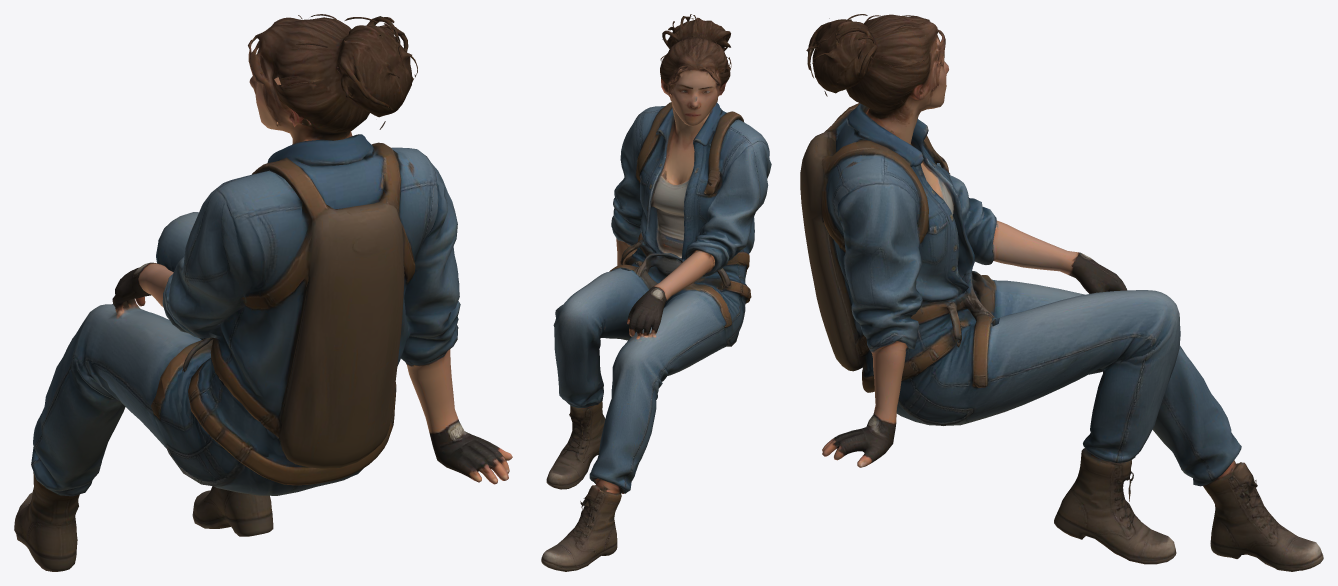
File: female_seated.glb
3 views of the same model, side by side, from view 1: azimuth 30°, elevation 25°; view 2: azimuth 150°, elevation 25°; view 3: azimuth 270°, elevation 25° (orthographic). The views are drawn at different scales.
Parts seen in each view (by area): view 1: tripo_node_c22b8983-46e1-4d20-a716-a4fd6057fdb6; view 2: tripo_node_c22b8983-46e1-4d20-a716-a4fd6057fdb6; view 3: tripo_node_c22b8983-46e1-4d20-a716-a4fd6057fdb6.
Part boxes in pixels (x1,y1,x2,y2): tripo_node_c22b8983-46e1-4d20-a716-a4fd6057fdb6: (14, 14, 512, 571); tripo_node_c22b8983-46e1-4d20-a716-a4fd6057fdb6: (541, 14, 771, 571); tripo_node_c22b8983-46e1-4d20-a716-a4fd6057fdb6: (800, 14, 1323, 571).
Size of the model in its own units: 0.5721 by 1.3 by 1.08.
1 material, 1 textured.
